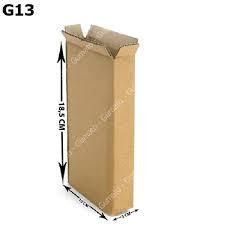box: (61, 23, 141, 218)
